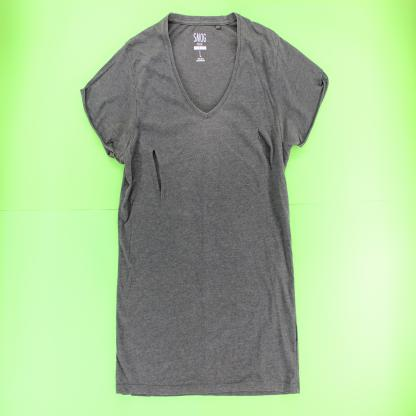hole: (256, 125, 273, 172), (151, 147, 163, 199)
